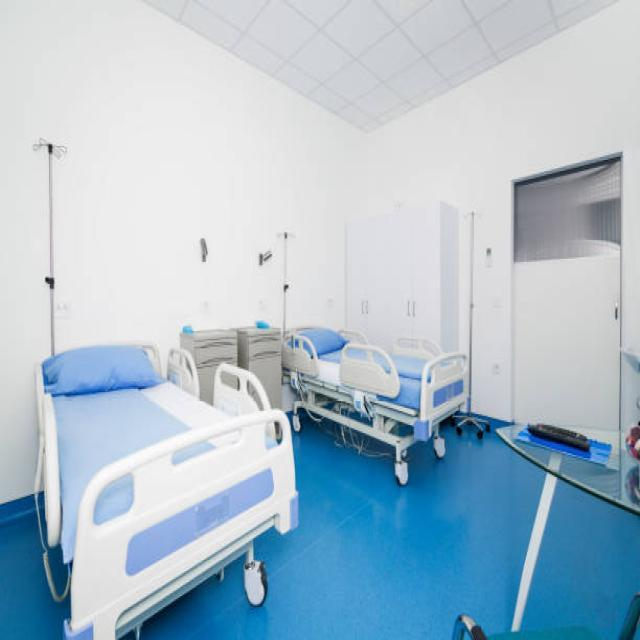Saline Stand: (0, 129, 71, 392), (251, 219, 304, 427), (451, 201, 495, 434)
bed: (34, 338, 298, 638), (282, 324, 468, 484)
